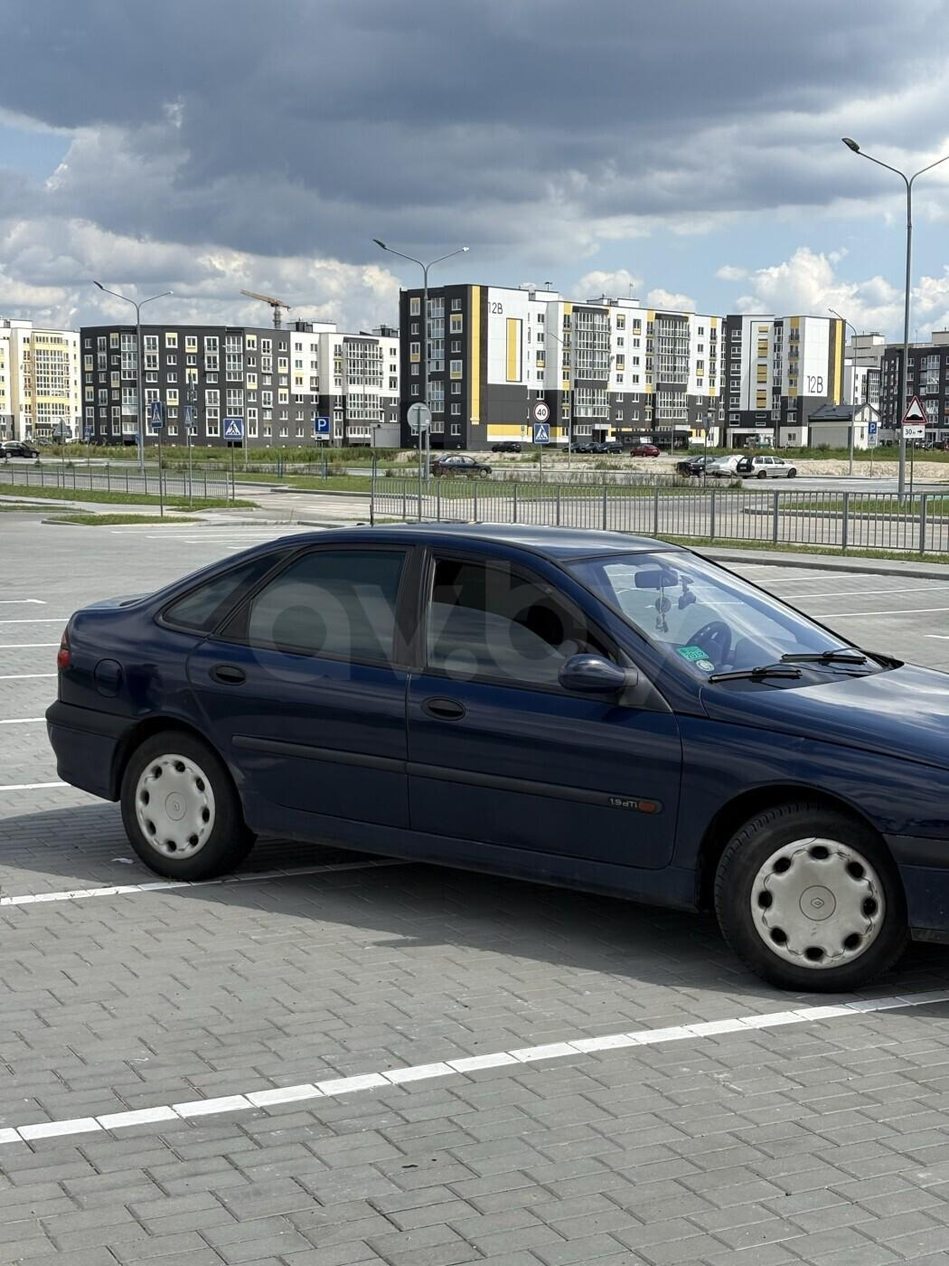Laguna_1998-2001: (40, 515, 949, 1002)
